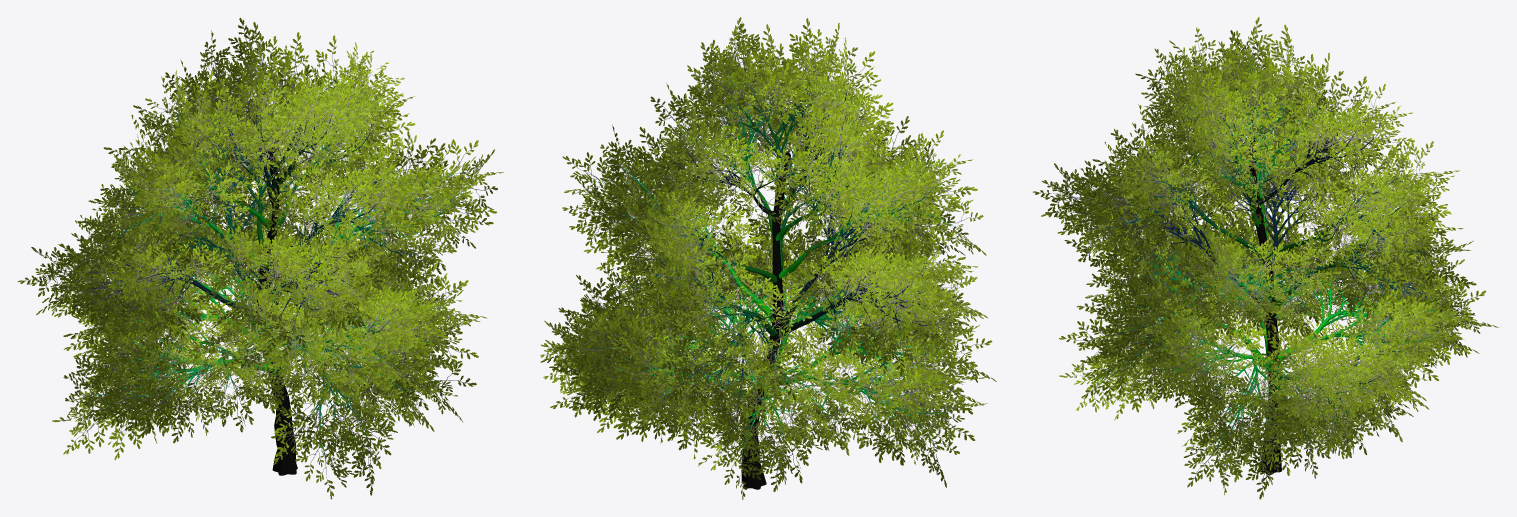
Rendered from OakTree01.fbx.
3 views of the same model, side by side, from view 1: azimuth 30°, elevation 25°; view 2: azimuth 150°, elevation 25°; view 3: azimuth 270°, elevation 25° (orthographic). The views are drawn at different scales.
Parts seen in each view (by area): view 1: Tree_1, Tree_0; view 2: Tree_1, Tree_0; view 3: Tree_1, Tree_0.
Boxes of the visible parts, x1,y1,x2,y2 form: Tree_1: [17, 17, 503, 499]; Tree_0: [63, 62, 459, 475]; Tree_1: [540, 17, 996, 499]; Tree_0: [581, 59, 958, 489]; Tree_1: [1033, 17, 1498, 499]; Tree_0: [1070, 53, 1458, 474].
Bounding box in the file's own units: 103 × 97.38 × 99.5.
